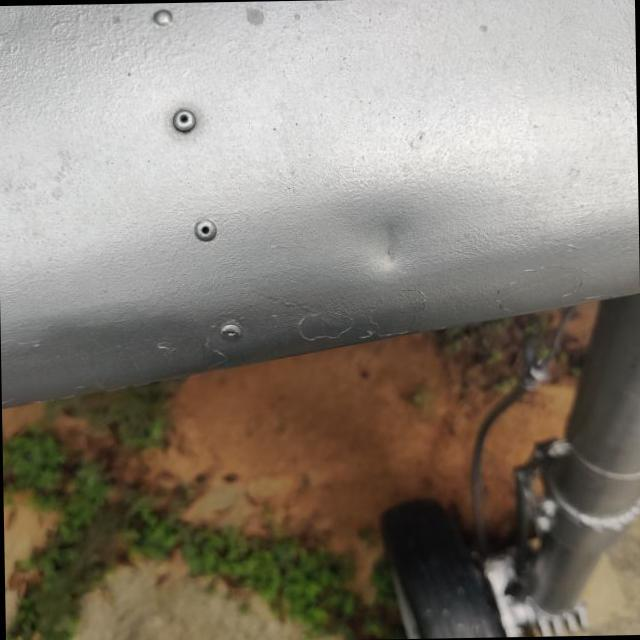Dent: (333, 196, 446, 301)
